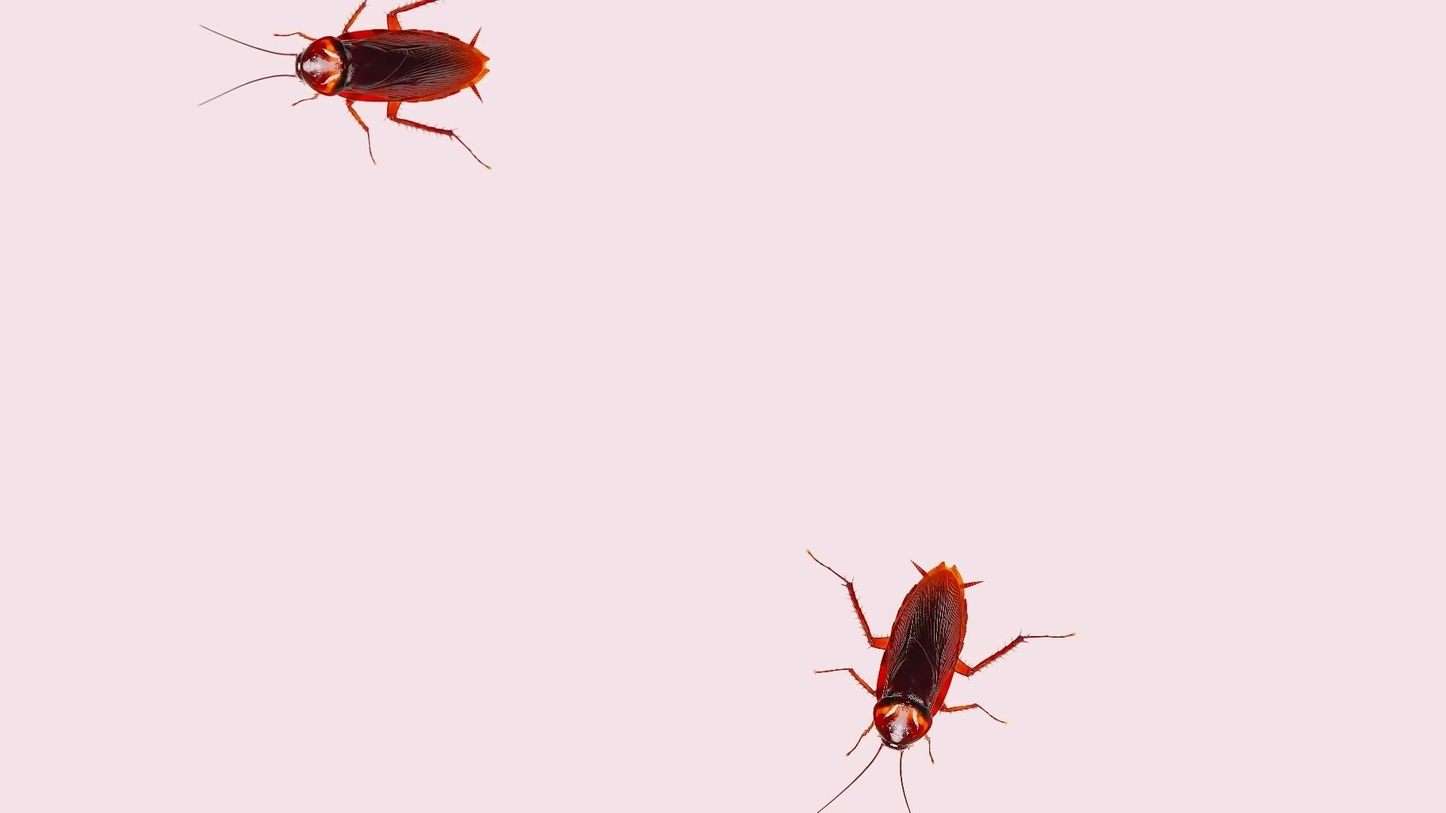cockroach: (799, 523, 1071, 803), (182, 16, 544, 176)
